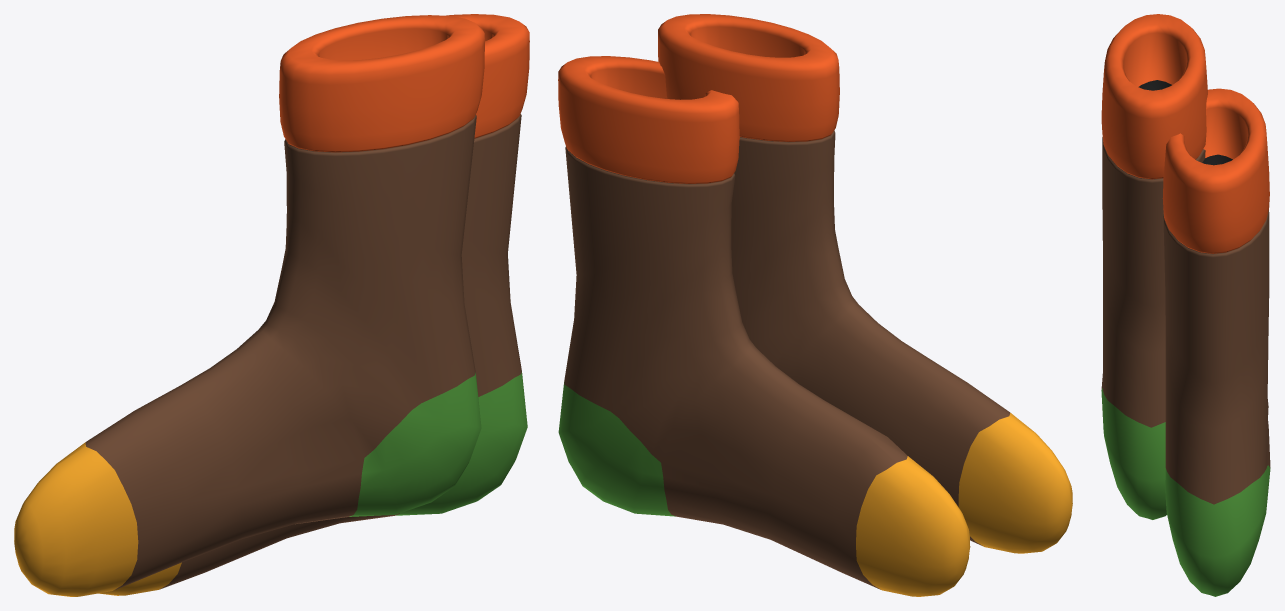
Rendered from socks.fbx.
3 views of the same model, side by side, from view 1: azimuth 30°, elevation 25°; view 2: azimuth 150°, elevation 25°; view 3: azimuth 270°, elevation 25° (orthographic). The views are drawn at different scales.
Visible parts, largest first — view 1: socks; view 2: socks; view 3: socks.
Part boxes in pixels (x1=…): socks: x1=14, y1=14, x2=529, y2=596; socks: x1=558, y1=14, x2=1072, y2=596; socks: x1=1101, y1=14, x2=1270, y2=596.
Size of the model in its own units: 1.35 by 1.28 by 0.3901.
